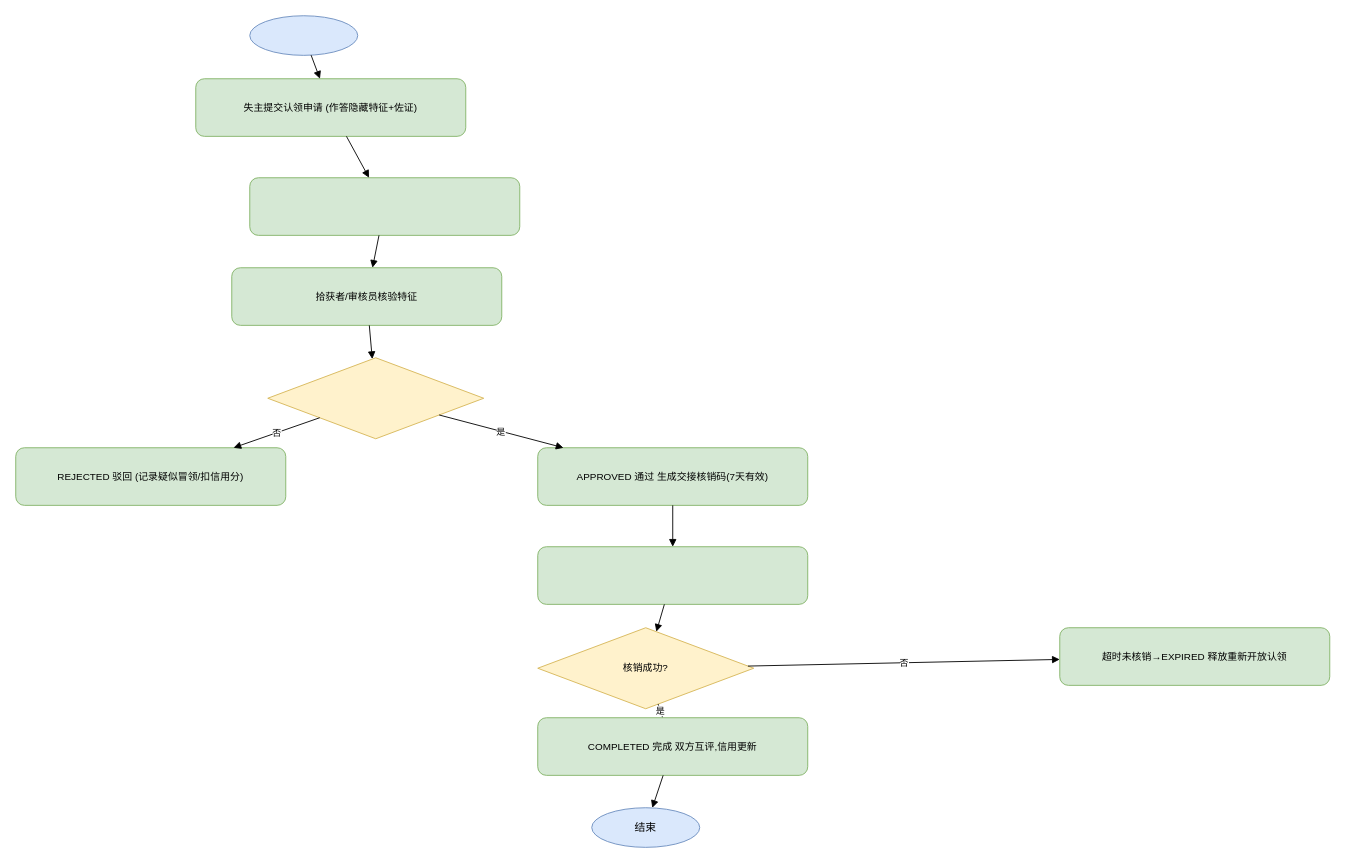
This 1346x863 diagram has some shape labels left out. The centre of each missing label's shape, as x and y in pixels:
"开始" belongs at (x=303, y=35).
"核验通过?" belongs at (x=375, y=398).
"状态→PENDING (待核验)" belongs at (x=384, y=206).
"线下交接，扫码核销" belongs at (x=672, y=575).
